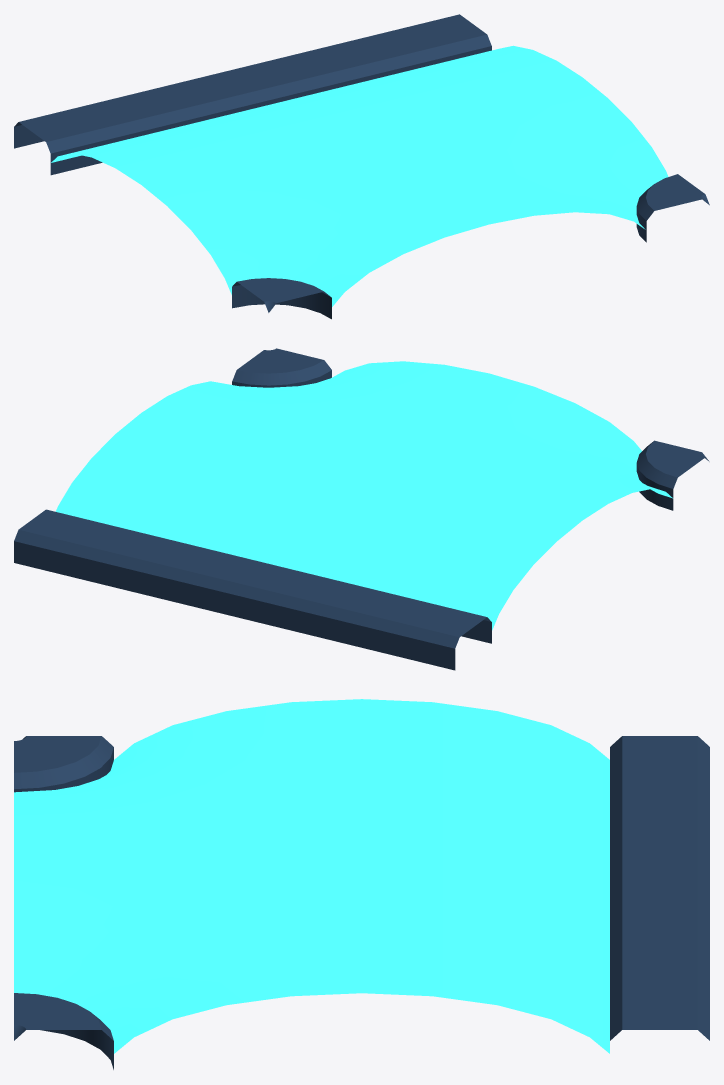
Rendered from Light_Trim_01_RoundShortCrossT.fbx.
3 renders of one model, top to bottom at view 1: azimuth 30°, elevation 25°; view 2: azimuth 150°, elevation 25°; view 3: azimuth 270°, elevation 25°, orthographic. The views are drawn at different scales.
Parts seen in each view (by area): view 1: Light_Trim_01_RoundShortCrossT.001; view 2: Light_Trim_01_RoundShortCrossT.001; view 3: Light_Trim_01_RoundShortCrossT.001.
Part boxes in pixels (x1=…): Light_Trim_01_RoundShortCrossT.001: x1=14, y1=14, x2=709, y2=319; Light_Trim_01_RoundShortCrossT.001: x1=14, y1=348, x2=709, y2=670; Light_Trim_01_RoundShortCrossT.001: x1=14, y1=699, x2=709, y2=1069.
Size of the model in its own units: 0.1 by 0.0123 by 0.1.
